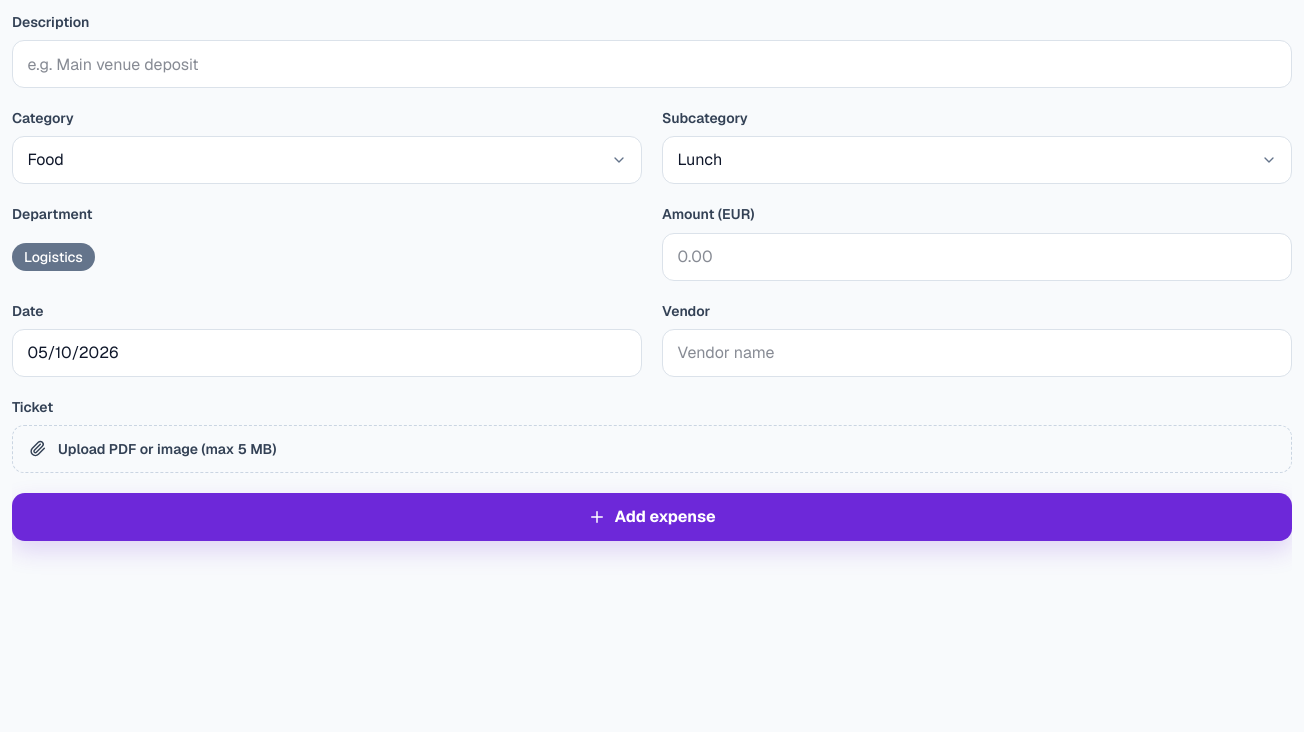
Test: ExpenseForm › updates the department tag when a different subcategory is chosen
Select "Dinner" in the dropdown labelled "Subcategory" at (977, 160), box [662, 136, 1292, 184]
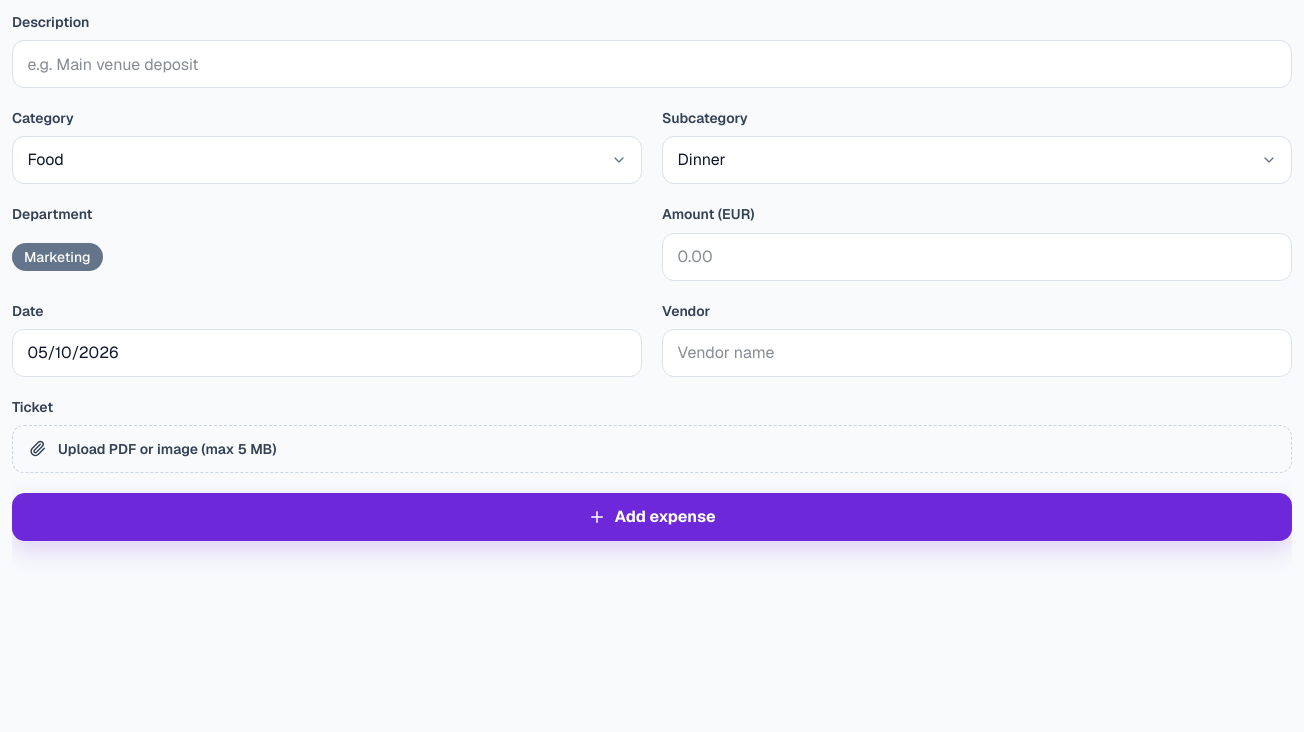
Result: the text "Marketing" is shown at [12, 243, 102, 271]
